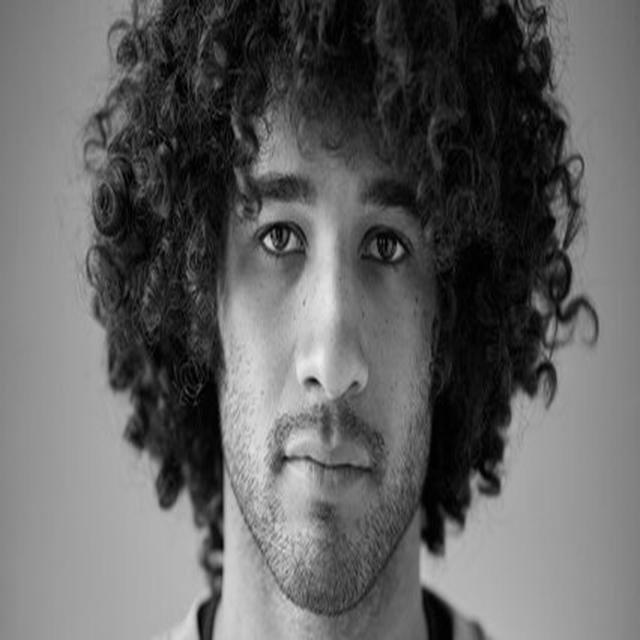Neutral: (220, 49, 432, 614)
